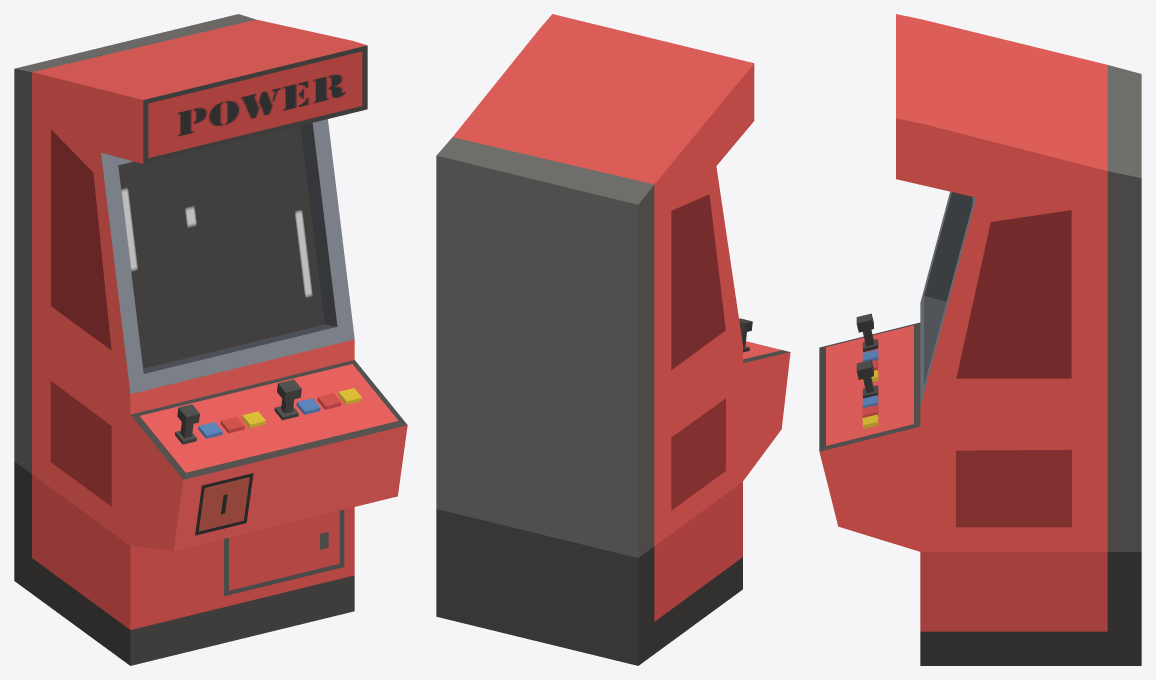
Rendered from Arcade3.glb.
The picture shows the model from 3 angles, left to right: view 1: azimuth 30°, elevation 25°; view 2: azimuth 150°, elevation 25°; view 3: azimuth 270°, elevation 25°; orthographic projection. The views are drawn at different scales.
Parts seen in each view (by area): view 1: SI_Prop_ArcadeMachine_04; view 2: SI_Prop_ArcadeMachine_04; view 3: SI_Prop_ArcadeMachine_04.
Boxes of the visible parts, <box> form: SI_Prop_ArcadeMachine_04: <box>14,14,407,665</box>; SI_Prop_ArcadeMachine_04: <box>436,14,790,665</box>; SI_Prop_ArcadeMachine_04: <box>819,14,1141,665</box>.
Bounding box in the file's own units: 0.0128 × 0.0314 × 0.0168.
1 material, 1 textured.
